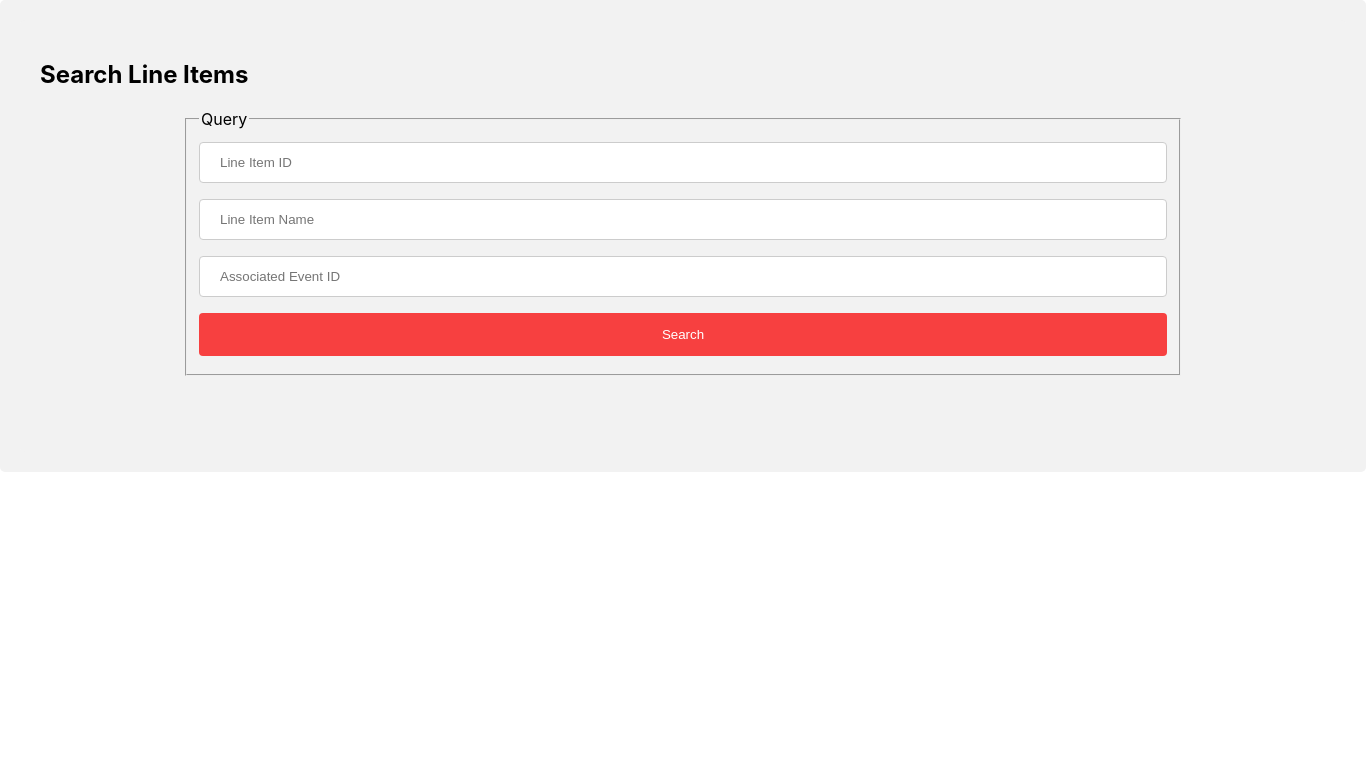
Test: successfully finds line item by name
Type "example item" into the field with placeholder "Line Item Name". click: (683, 220)
box: [199,199,1167,240]
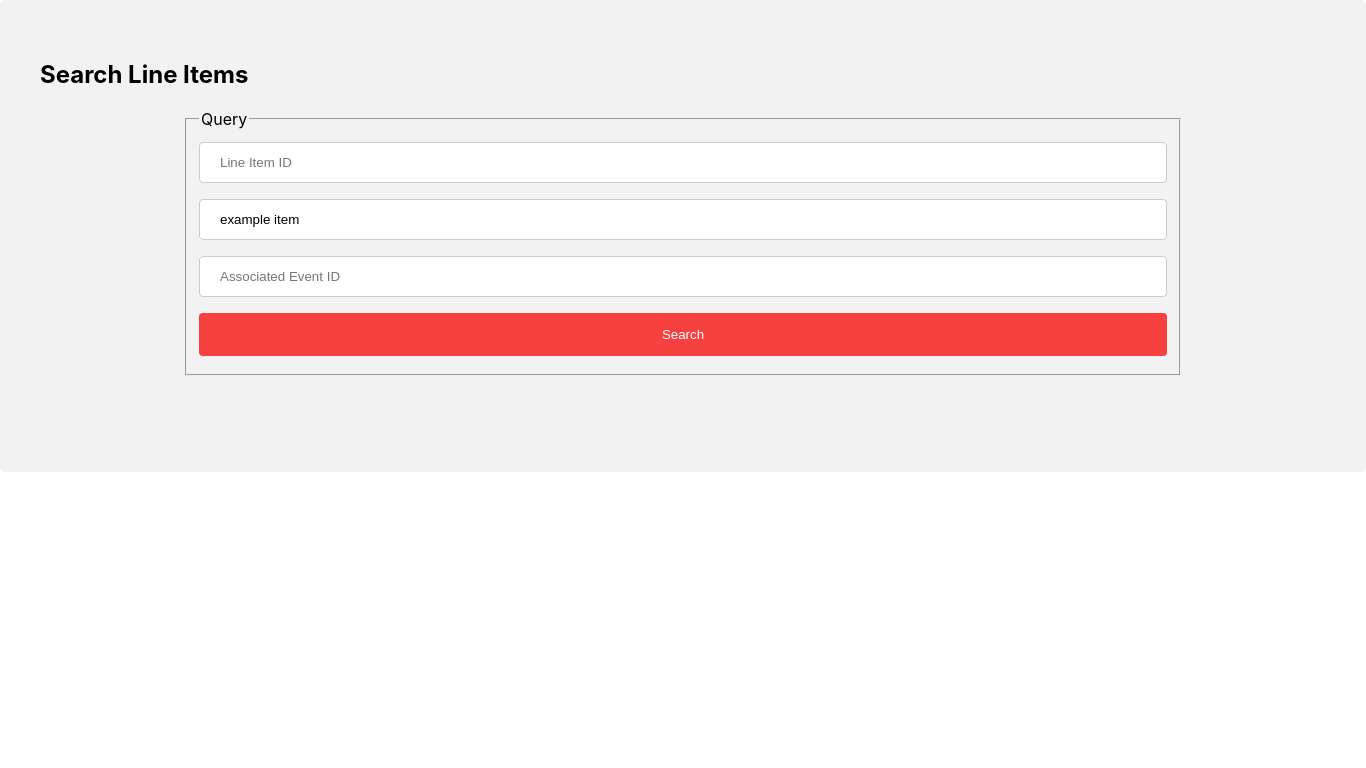
Click the button. click: (683, 335)
box: [199,313,1167,356]
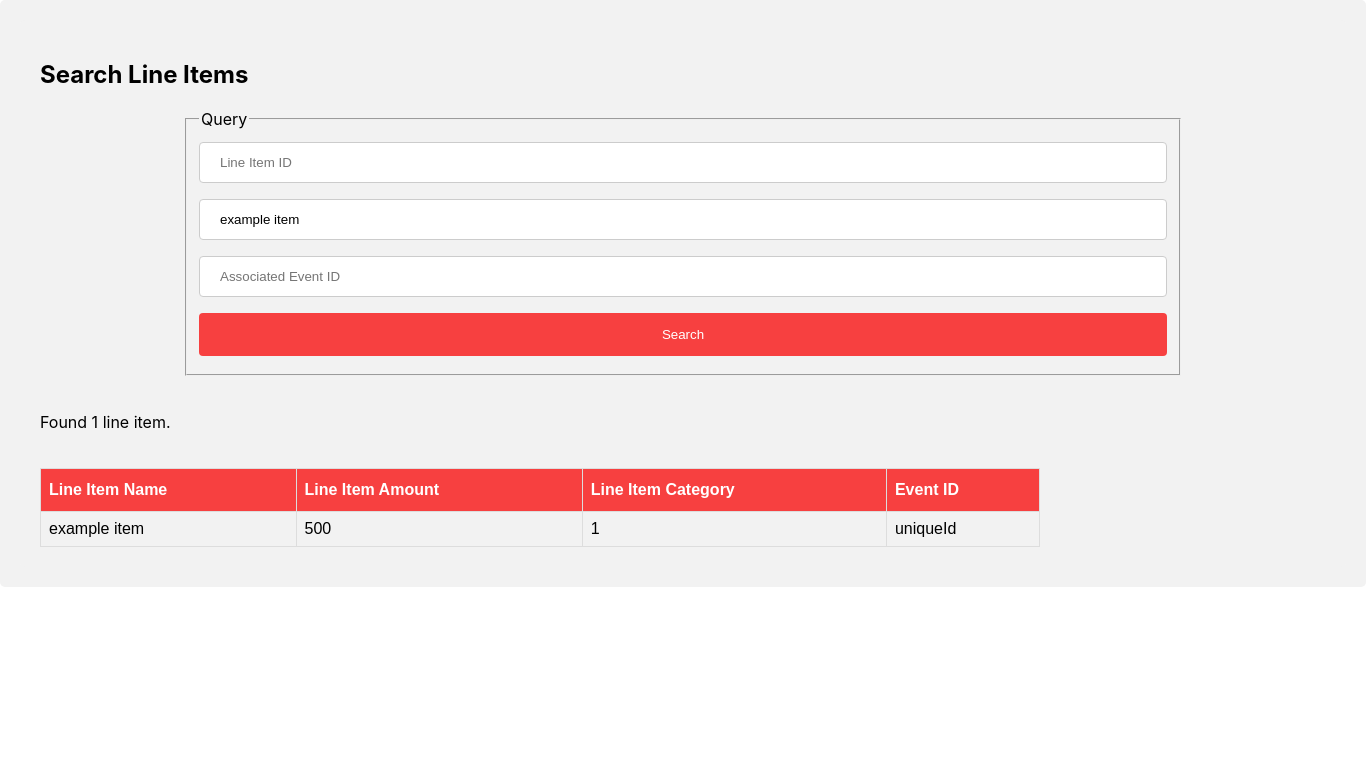
Expected: the number of cells is 4, [40,512,296,547]; [296,512,582,547]; [582,512,886,547]; [886,512,1040,547]
Expected: the number of rows is 2, [40,469,1040,512]; [40,512,1040,547]
Expected: the cell "example item" is shown, [40,512,296,547]
